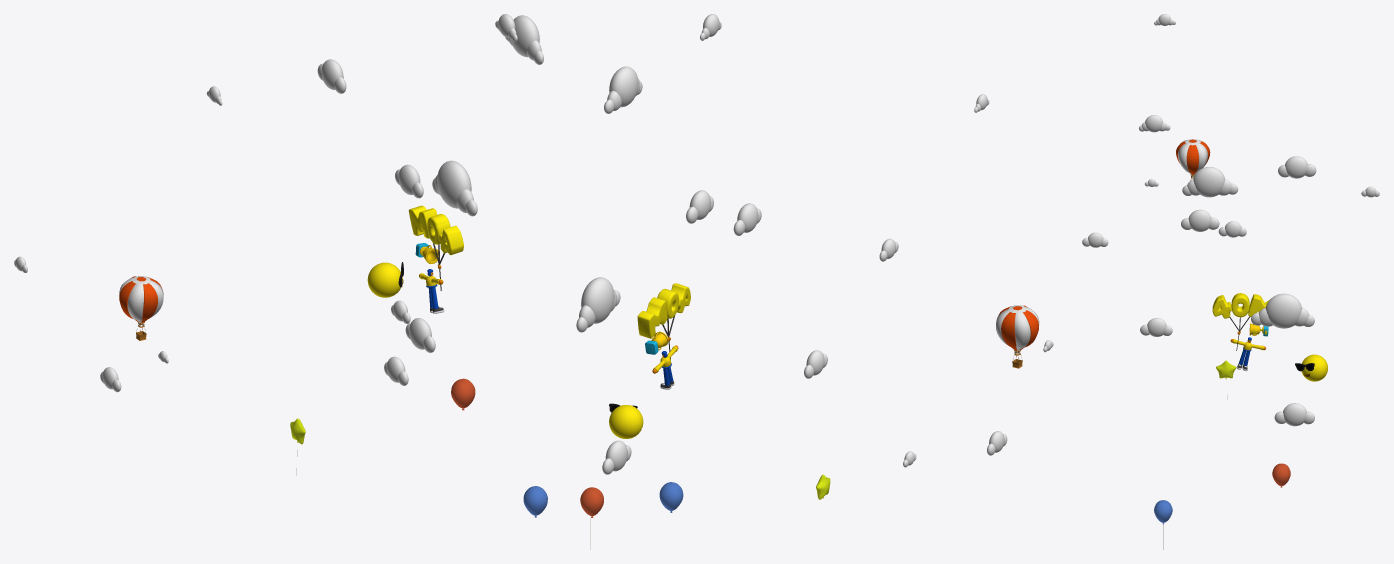
Rendered from Model2old.glb.
3 views of the same model, side by side, from view 1: azimuth 30°, elevation 25°; view 2: azimuth 150°, elevation 25°; view 3: azimuth 270°, elevation 25° (orthographic). The views are drawn at different scales.
Visible parts, largest first — view 1: Sphere.014, Sphere.001, BallonHotAir, Cube.011, Sphere.002; view 2: Sphere.014, Sphere.001, BallonHotAir, Cube.011, Sphere.002, Cube.043_Cube.053; view 3: Sphere.014, Sphere.001, Cube.011, BallonHotAir, Sphere.002.
Boxes of the visible parts, x1,y1,x2,y2 form: Sphere.014: (14, 160, 477, 392); Sphere.001: (206, 14, 543, 198); BallonHotAir: (119, 276, 163, 340); Cube.011: (408, 205, 463, 264); Sphere.002: (367, 262, 402, 297); Sphere.014: (576, 238, 1053, 474); Sphere.001: (604, 14, 989, 235); BallonHotAir: (996, 305, 1039, 368); Cube.011: (637, 283, 690, 338); Sphere.002: (609, 405, 643, 438); Cube.043_Cube.053: (580, 487, 603, 549); Sphere.014: (1082, 179, 1379, 426); Sphere.001: (1139, 14, 1316, 231); Cube.011: (1212, 293, 1269, 331); BallonHotAir: (1176, 139, 1210, 180); Sphere.002: (1301, 354, 1327, 381).
Bounding box in the file's own units: 18.93 × 23.32 × 14.93.
